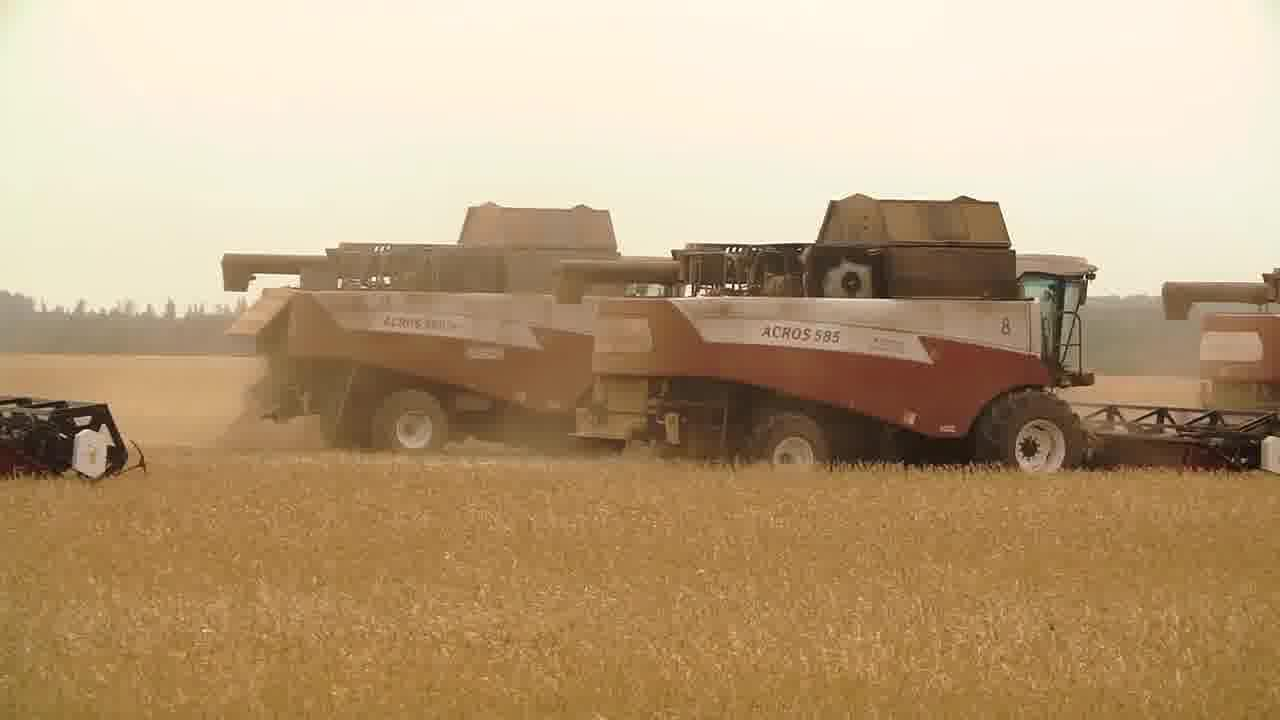combine harvester: (558, 187, 1280, 487), (216, 190, 585, 459), (0, 378, 147, 514), (1155, 256, 1280, 412)
